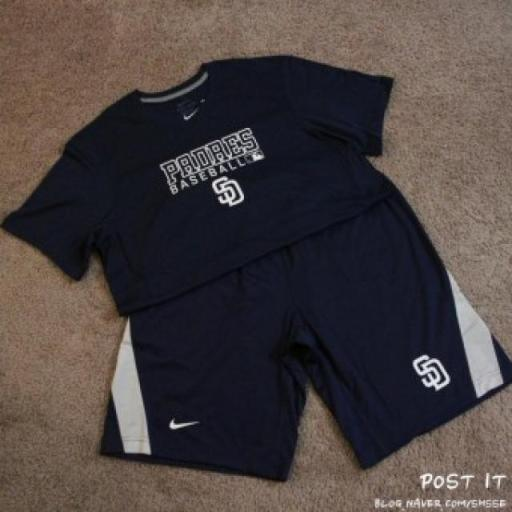Nike: (162, 416, 204, 432)
